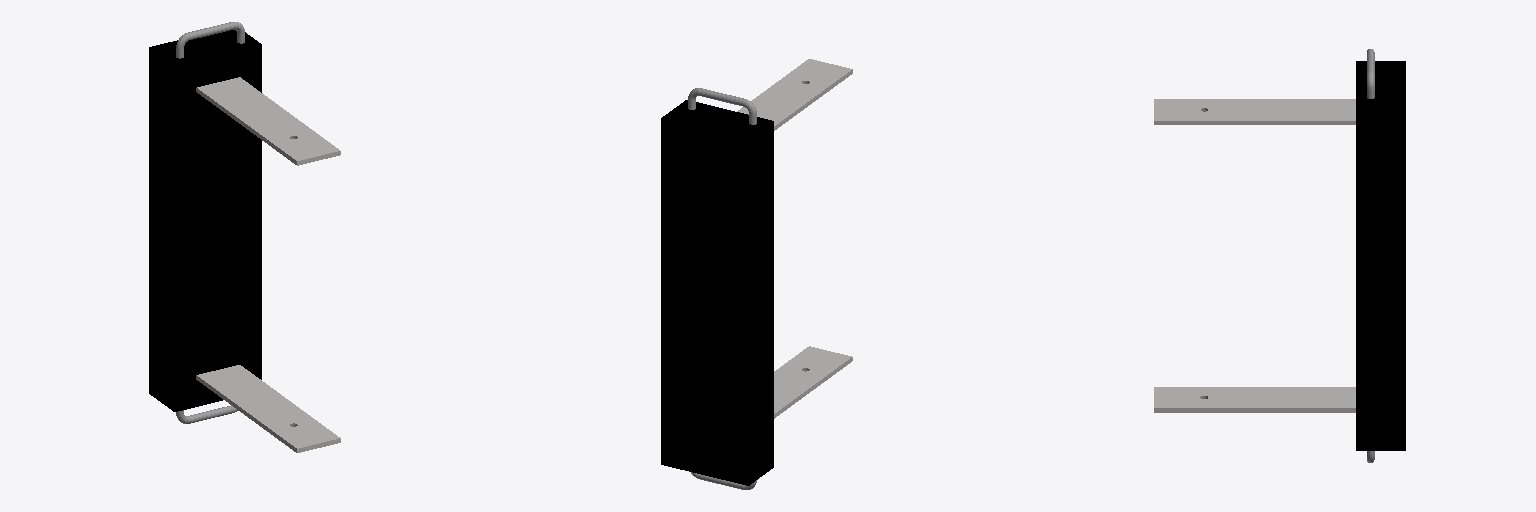
Rendered from grill_base.obj.
3 views of the same model, side by side, from view 1: azimuth 30°, elevation 25°; view 2: azimuth 150°, elevation 25°; view 3: azimuth 270°, elevation 25° (orthographic).
Parts seen in each view (by area): view 1: 본체1; view 2: 본체1; view 3: 본체1.
Part boxes in pixels (x1,y1,x2,y2): 본체1: (149, 22, 340, 452); 본체1: (661, 59, 852, 489); 본체1: (1154, 49, 1405, 462).
Bounding box in the file's own units: 100 × 428 × 250.